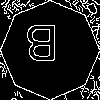B: (25, 25, 58, 70)
